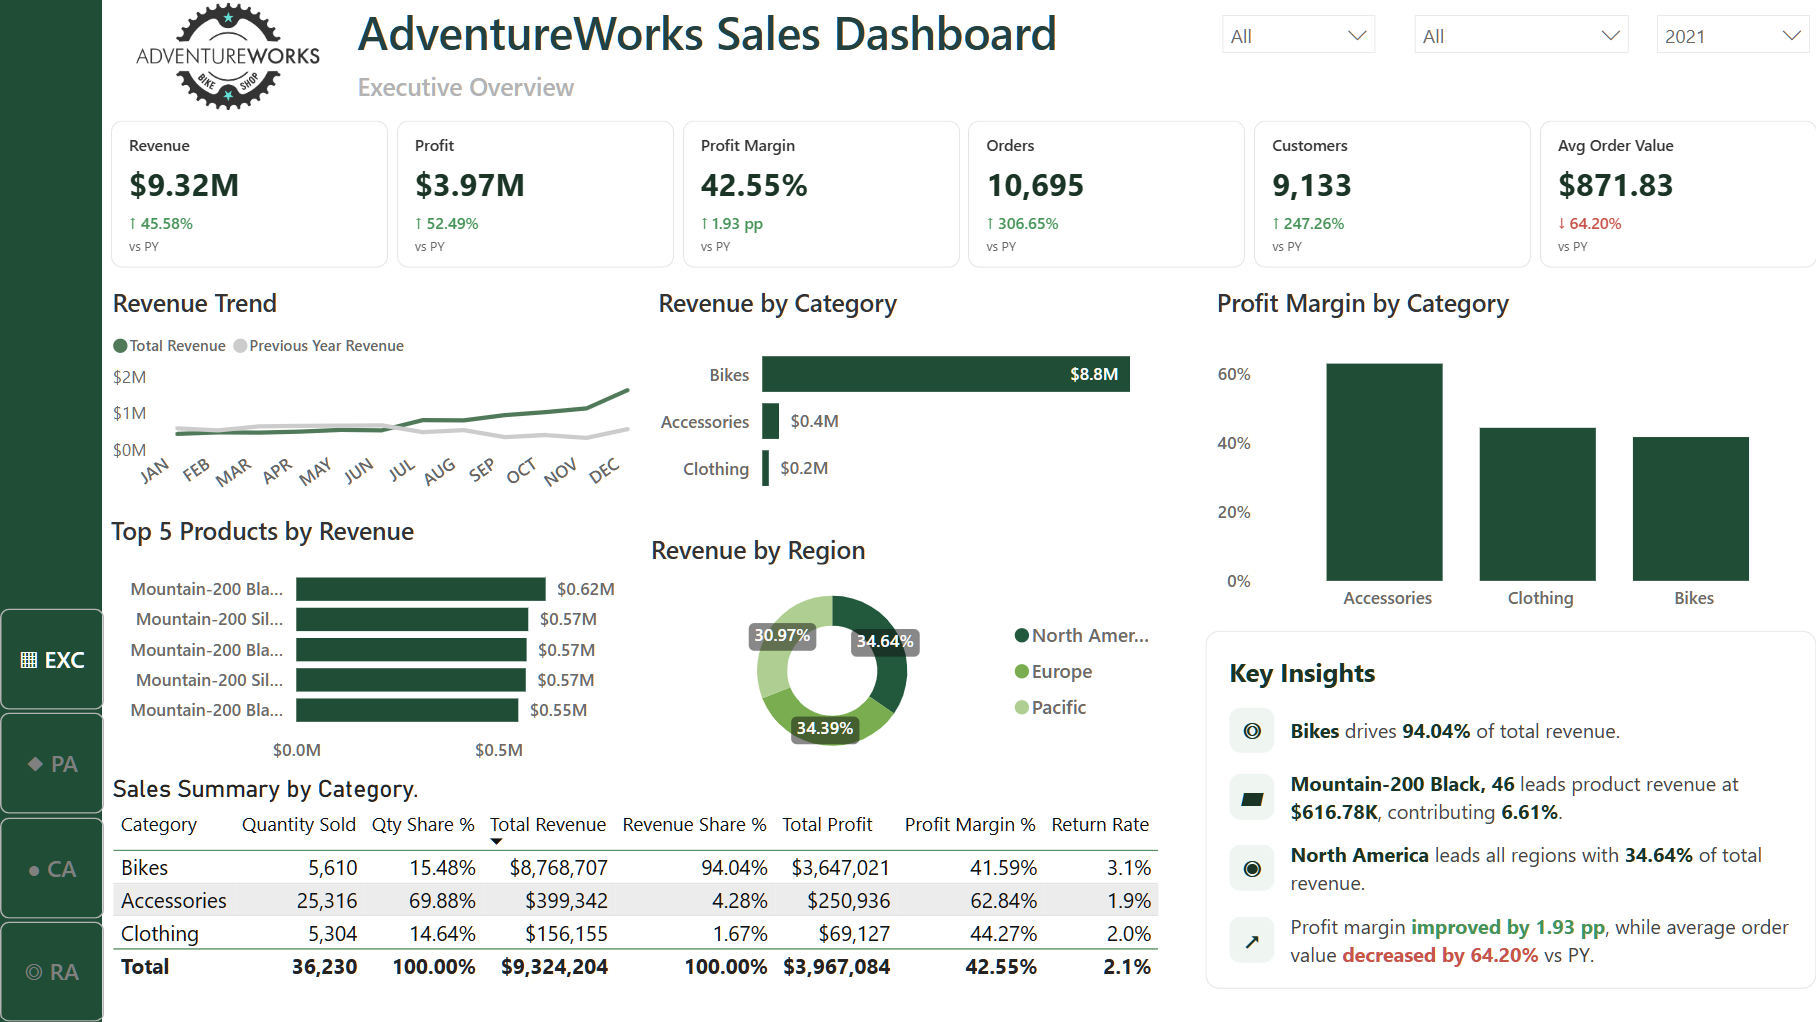

Layout of this report page (visuals, bound fields, positions):
{"tool":"powerbi","page":{"name":"▦ EXC","canvas":[1280,720],"ordinal":0},"visuals":[{"type":"shape","box":[0,0,72.2,720],"z":0},{"type":"textbox","title":"AdventureWorks Sales Dashboard","box":[246.2,1.1,553.7,78],"z":1000},{"type":"slicer","fields":{"Values":["Calendar Lookup.Year"]},"box":[1153,0,127,42.3],"z":2000},{"type":"slicer","fields":{"Values":["Territory Lookup.Region"]},"box":[848,0,127,42.3],"z":3000},{"type":"slicer","fields":{"Values":["Product Categories Lookup.CategoryName"]},"box":[983,0,170,42.5],"z":4000},{"type":"lineChart","title":"Revenue Trend","fields":{"Category":["Calendar Lookup.Month Short"],"Y":["Measure Table.Total Revenue","Measure Table.Previous Year Revenue"]},"box":[74.3,200,382.9,160],"z":5000},{"type":"clusteredBarChart","title":"Revenue by Category","fields":{"Category":["Product Categories Lookup.CategoryName"],"Y":["Measure Table.Total Revenue"]},"box":[457.1,200,382.9,160],"z":6000},{"type":"clusteredBarChart","title":"Top 5 Products by Revenue","fields":{"Category":["Product Lookup.ProductName"],"Y":["Measure Table.Total Revenue"]},"box":[72.9,360,384.3,184.3],"z":7000},{"type":"donutChart","title":"Revenue by Region","fields":{"Category":["Territory Lookup.Continent"],"Y":["Measure Table.Total Revenue"]},"box":[457.1,372.9,382.9,171.4],"z":8000},{"type":"htmlContent443BE3AD55E043BF878BED274D3A6855","fields":{"content":["Measure Table.KPI Cards HTML"]},"box":[72.9,78.6,1207.1,121.4],"z":9000},{"type":"tableEx","title":"Sales Summary by Category.","fields":{"Values":["Product Categories Lookup.CategoryName","Measure Table.Quantity Sold","Measure Table.Category Quantity Contribution %","Measure Table.Total Revenue","Measure Table.Category Revenue Contribution %","Measure Table.Total Profit","Measure Table.Profit Margin %","Measure Table.Return Rate"]},"box":[74.3,544.3,765.7,175.7],"z":10000},{"type":"htmlContent443BE3AD55E043BF878BED274D3A6855","fields":{"content":["Measure Table.Key Insights EXC"]},"box":[841.4,437.1,438.6,282.9],"z":11000},{"type":"columnChart","title":"Profit Margin by Category","fields":{"Category":["Product Categories Lookup.CategoryName"],"Y":["Measure Table.Profit Margin %"]},"box":[848.6,200,431.4,237.1],"z":12000},{"type":"pageNavigator","box":[0,427.1,72.9,292.9],"z":13000},{"type":"image","box":[74.6,0,171.6,79.1],"z":13001}]}

Visuals, with their boxes on the page's 1280x720 design canvas (x1, y1, x2, y2). These are canvas units, not pixel positions in the 1816x1022 screenshot, which may show the page scaled, cropped or inside an application window:
shape: <region>0, 0, 72, 720</region>
"AdventureWorks Sales Dashboard" textbox: <region>246, 1, 800, 79</region>
slicer - Calendar Lookup.Year: <region>1153, 0, 1280, 42</region>
slicer - Territory Lookup.Region: <region>848, 0, 975, 42</region>
slicer - Product Categories Lookup.CategoryName: <region>983, 0, 1153, 42</region>
"Revenue Trend" lineChart: <region>74, 200, 457, 360</region>
"Revenue by Category" clusteredBarChart: <region>457, 200, 840, 360</region>
"Top 5 Products by Revenue" clusteredBarChart: <region>73, 360, 457, 544</region>
"Revenue by Region" donutChart: <region>457, 373, 840, 544</region>
htmlContent443BE3AD55E043BF878BED274D3A6855 - Measure Table.KPI Cards HTML: <region>73, 79, 1280, 200</region>
"Sales Summary by Category." tableEx: <region>74, 544, 840, 720</region>
htmlContent443BE3AD55E043BF878BED274D3A6855 - Measure Table.Key Insights EXC: <region>841, 437, 1280, 720</region>
"Profit Margin by Category" columnChart: <region>849, 200, 1280, 437</region>
pageNavigator: <region>0, 427, 73, 720</region>
image: <region>75, 0, 246, 79</region>
